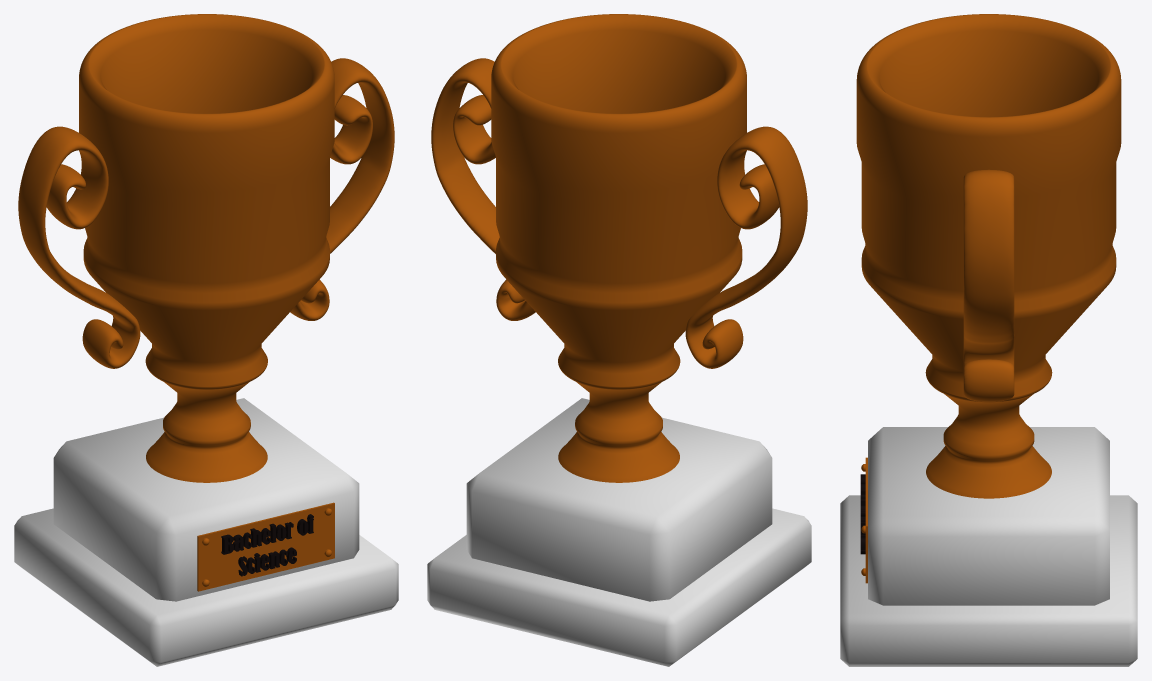
The model's file is pokal.fbx.
The picture shows the model from 3 angles, left to right: view 1: azimuth 30°, elevation 25°; view 2: azimuth 150°, elevation 25°; view 3: azimuth 270°, elevation 25°; orthographic projection. The views are drawn at different scales.
Visible parts, largest first — view 1: Cilindro, Würfel, Cubo_1, Cubo, Cubo_2_2, Cubo_2, Deckfläche_1, Extrudieren; view 2: Cilindro, Würfel, Cubo_1, Cubo, Cubo_2_2; view 3: Cilindro, Würfel, Cubo_1, Cubo_2_2, Extrudieren.
Boxes of the visible parts, x1,y1,x2,y2 form: Cilindro: (79,14,334,482); Würfel: (53,398,359,601); Cubo_1: (14,508,398,666); Cubo: (18,126,140,368); Cubo_2_2: (290,58,394,320); Cubo_2: (197,502,334,591); Deckfläche_1: (223,516,313,576); Extrudieren: (221,514,313,576); Cilindro: (491,14,746,482); Würfel: (466,398,772,601); Cubo_1: (427,508,811,666); Cubo: (685,126,807,368); Cubo_2_2: (431,58,535,320); Cilindro: (856,14,1121,498); Würfel: (868,427,1109,605); Cubo_1: (840,495,1137,666); Cubo_2_2: (963,169,1014,401); Extrudieren: (860,474,865,554).
Size of the model in its own units: 526 by 733 by 365.
